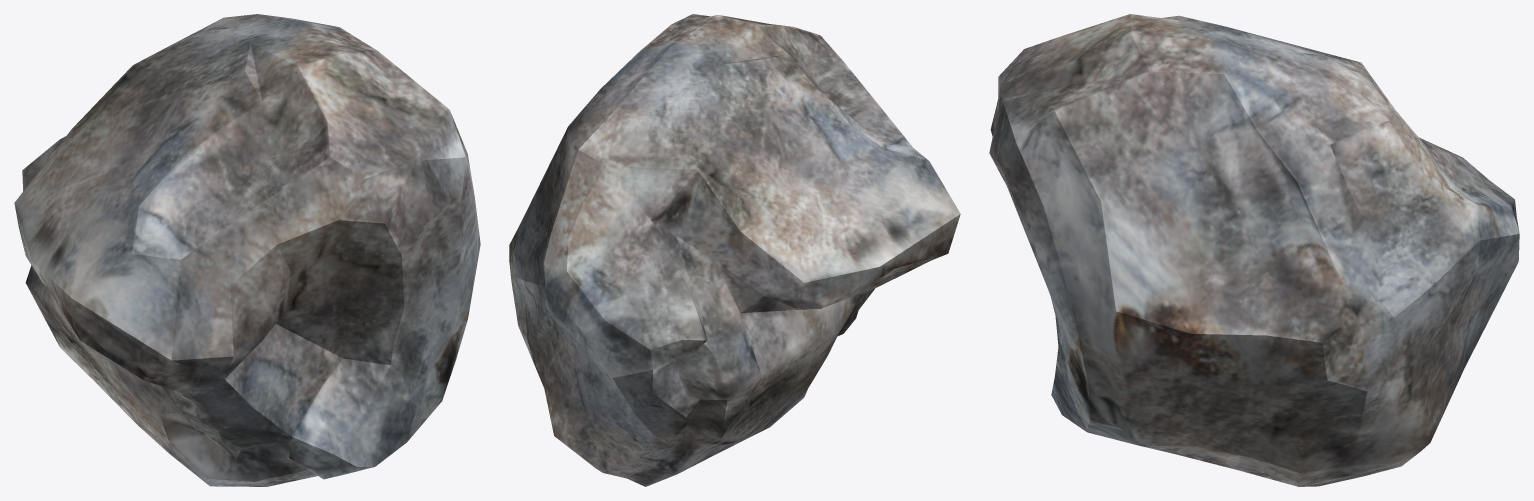
File: rock1.FBX
3 renders of one model, left to right at view 1: azimuth 30°, elevation 25°; view 2: azimuth 150°, elevation 25°; view 3: azimuth 270°, elevation 25°, orthographic. The views are drawn at different scales.
Parts seen in each view (by area): view 1: Skin_Rock1_1Zsphere1; view 2: Skin_Rock1_1Zsphere1; view 3: Skin_Rock1_1Zsphere1.
Part boxes in pixels (x1,y1,x2,y2): Skin_Rock1_1Zsphere1: [14, 14, 480, 486]; Skin_Rock1_1Zsphere1: [509, 14, 960, 486]; Skin_Rock1_1Zsphere1: [989, 14, 1519, 486].
Bounding box in the file's own units: 2.77 × 2.87 × 3.02.
